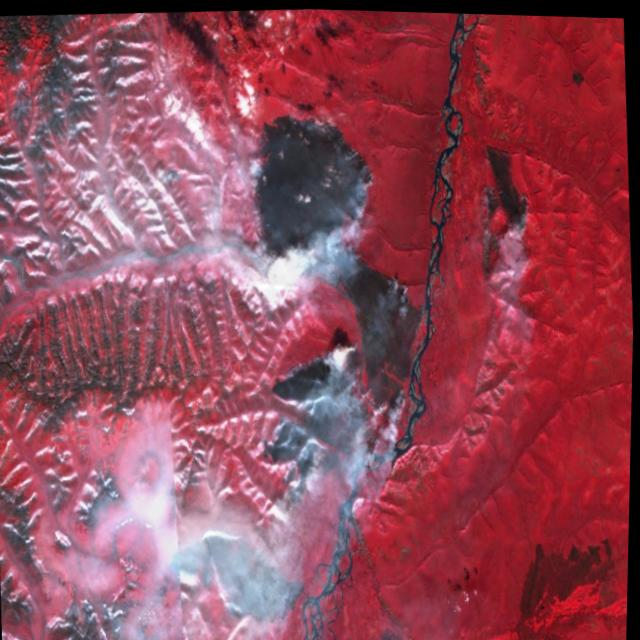fire: (237, 96, 448, 521), (467, 179, 545, 297), (151, 155, 195, 206)
